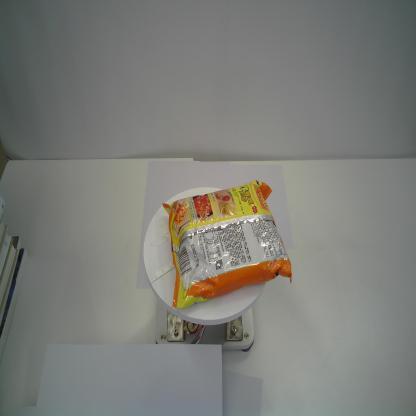Instant Noodles: (162, 179, 293, 309)
